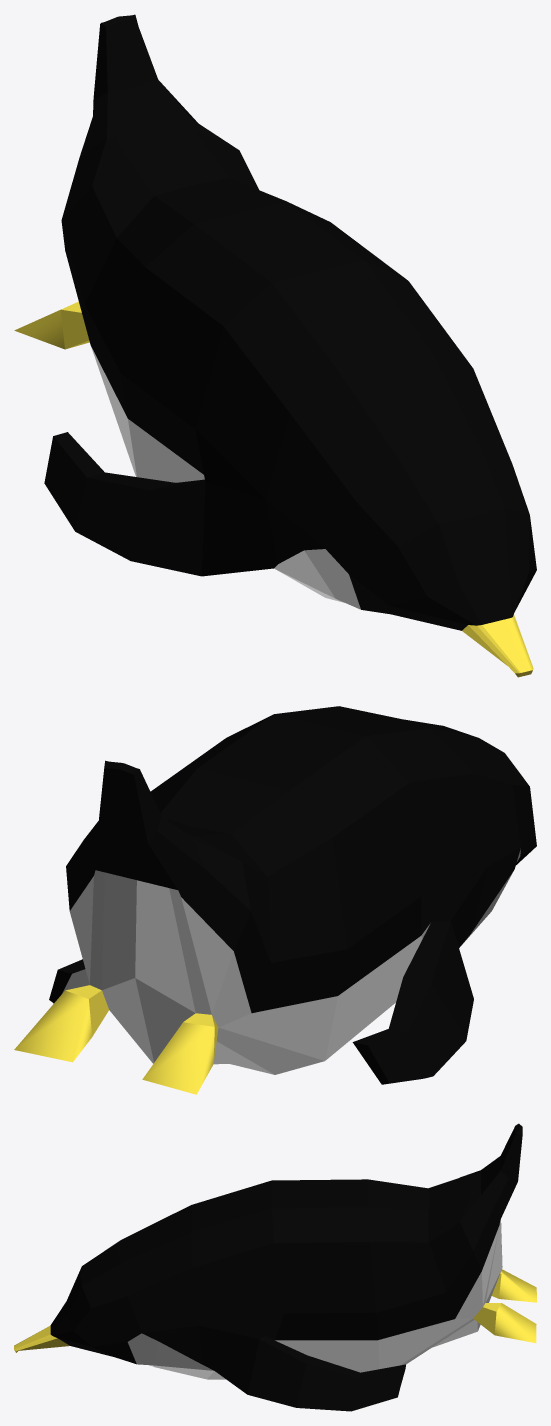
The model's file is Penguin.fbx.
3 renders of one model, top to bottom at view 1: azimuth 30°, elevation 25°; view 2: azimuth 150°, elevation 25°; view 3: azimuth 270°, elevation 25°, orthographic. The views are drawn at different scales.
Parts seen in each view (by area): view 1: Body, HandRight, FootRight; view 2: Body, HandRight, FootLeft, FootRight, HandLeft; view 3: Body, HandLeft, FootLeft, FootRight.
Boxes of the visible parts, x1,y1,x2,y2 form: Body: [61, 14, 536, 677]; HandRight: [44, 432, 277, 576]; FootRight: [14, 301, 89, 349]; Body: [66, 706, 536, 1074]; HandRight: [352, 867, 487, 1084]; FootLeft: [14, 985, 108, 1062]; FootRight: [142, 1013, 218, 1094]; HandLeft: [49, 959, 89, 1003]; Body: [14, 1123, 522, 1379]; HandLeft: [199, 1326, 405, 1411]; FootLeft: [473, 1303, 536, 1343]; FootRight: [492, 1269, 536, 1302].
Size of the model in its own units: 49.54 by 51.24 by 102.
